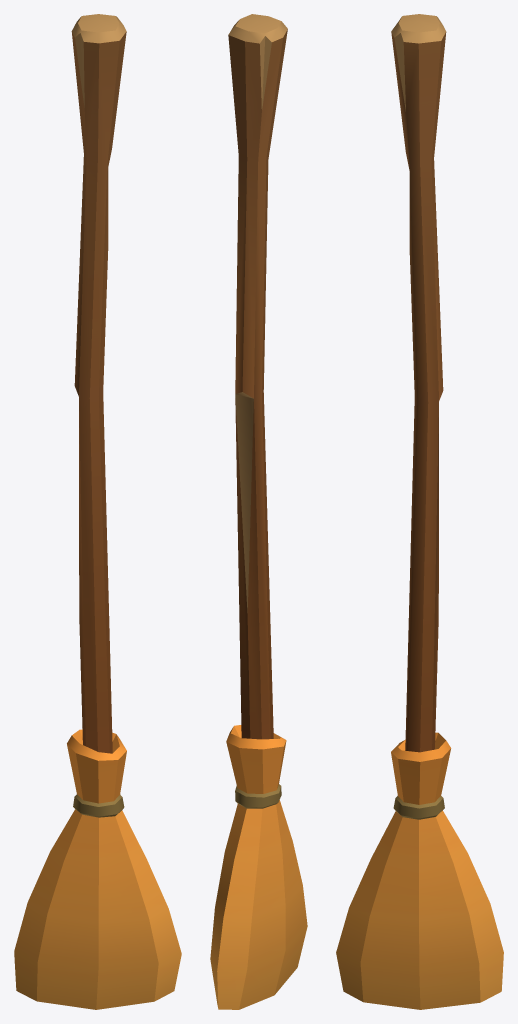
The model's file is Broom_B.glb.
The picture shows the model from 3 angles, left to right: view 1: azimuth 90°, elevation 25°; view 2: azimuth 150°, elevation 25°; view 3: azimuth 270°, elevation 25°; orthographic projection.
Parts seen in each view (by area): view 1: Broom_B; view 2: Broom_B; view 3: Broom_B.
Part boxes in pixels (x1=…): Broom_B: x1=14, y1=14, x2=181, y2=1009; Broom_B: x1=210, y1=14, x2=307, y2=1009; Broom_B: x1=336, y1=14, x2=503, y2=1009.
Bounding box in the file's own units: 0.0985 × 1.65 × 0.2553.
Materials: 1 (1 with a texture image).
